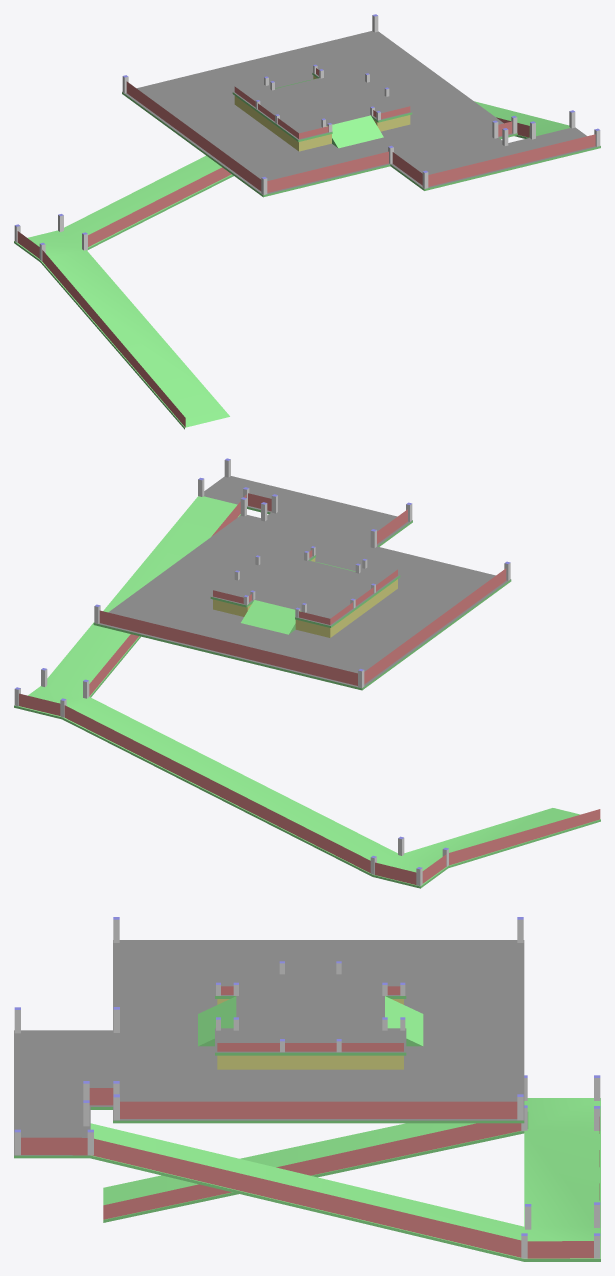
Rendered from L2fortress_02_s__fort02_command_stair02.gltf.
The picture shows the model from 3 angles, top to bottom: view 1: azimuth 30°, elevation 25°; view 2: azimuth 150°, elevation 25°; view 3: azimuth 270°, elevation 25°; orthographic projection. The views are drawn at different scales.
Visible parts, largest first — view 1: fort02_command_stair02; view 2: fort02_command_stair02; view 3: fort02_command_stair02.
Part boxes in pixels (x1,y1,x2,y2): fort02_command_stair02: [14, 14, 600, 429]; fort02_command_stair02: [14, 458, 600, 888]; fort02_command_stair02: [14, 917, 600, 1261].
Size of the model in its own units: 10.15 by 5.84 by 9.2.
